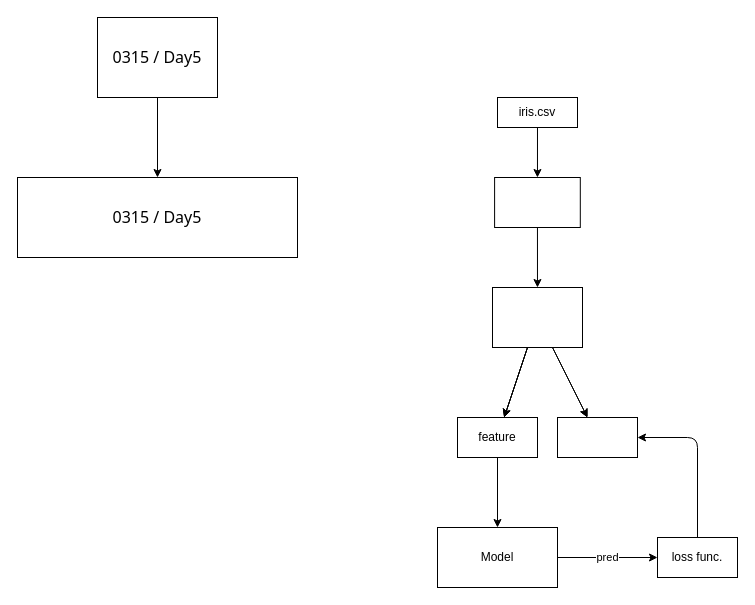
Some shapes in this 755 by 605 pixel diagram are drawn without their labels. Each missing label, with the centre of its shape:
"DataLoader" goes at (x=537, y=317).
"DataSet" goes at (x=537, y=202).
"target" goes at (x=597, y=437).
